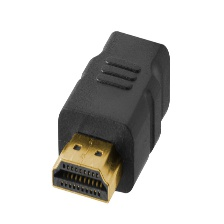hdmi_male: (23, 26, 181, 206)
